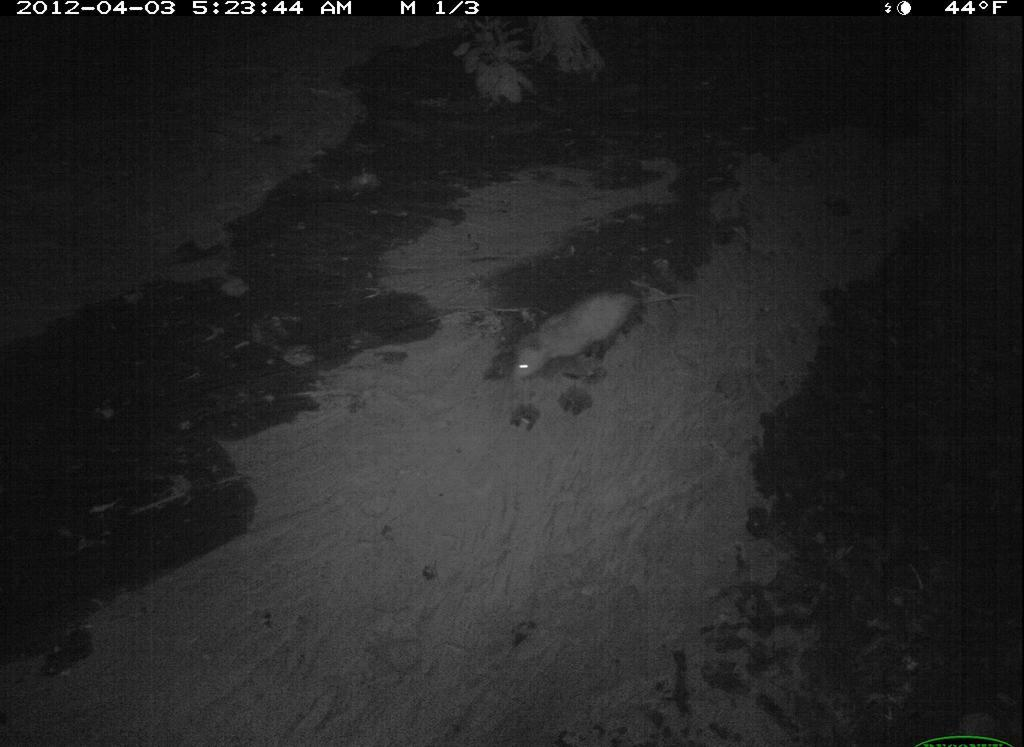opossum: (492, 290, 701, 385)
